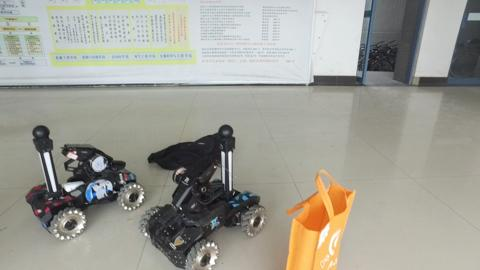bag: (291, 171, 348, 270), (147, 129, 217, 169)
chariot: (141, 128, 271, 270), (21, 124, 144, 240)
